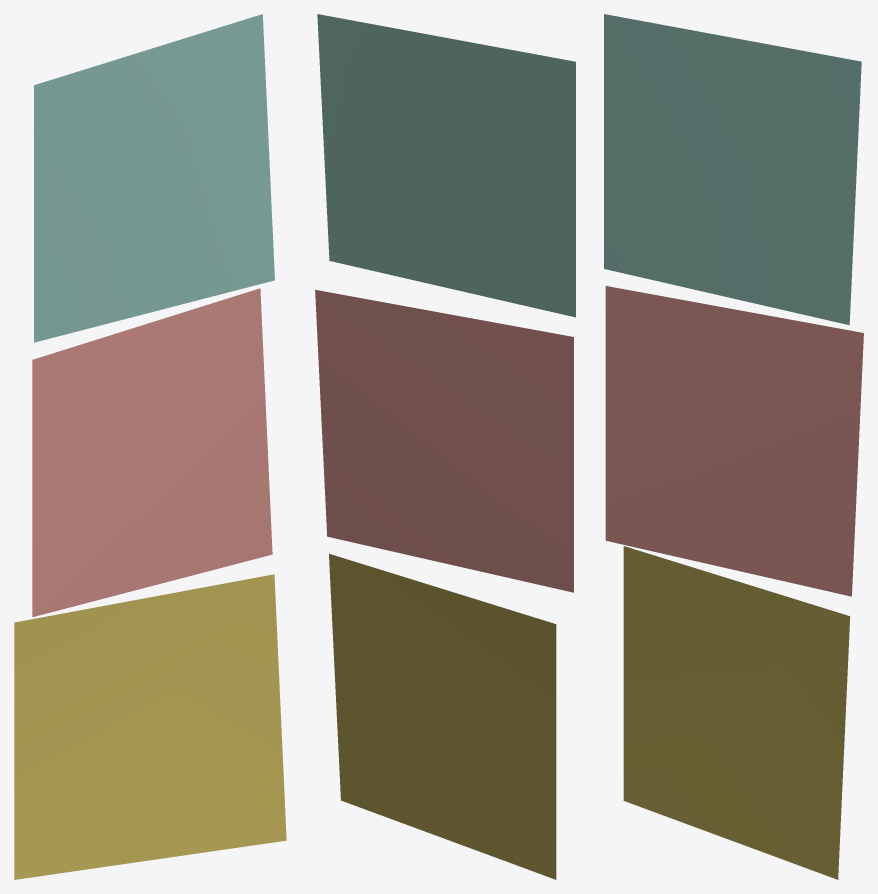
The model's file is stickies.glb.
3 renders of one model, left to right at view 1: azimuth 30°, elevation 25°; view 2: azimuth 150°, elevation 25°; view 3: azimuth 330°, elevation 25°, orthographic.
Visible parts, largest first — view 1: Foglietti; view 2: Foglietti; view 3: Foglietti.
Boxes of the visible parts, x1,y1,x2,y2 form: Foglietti: [14, 14, 286, 879]; Foglietti: [315, 14, 575, 879]; Foglietti: [604, 14, 863, 879].
Size of the model in its own units: 0.0696 by 0.22 by 0.0137.
